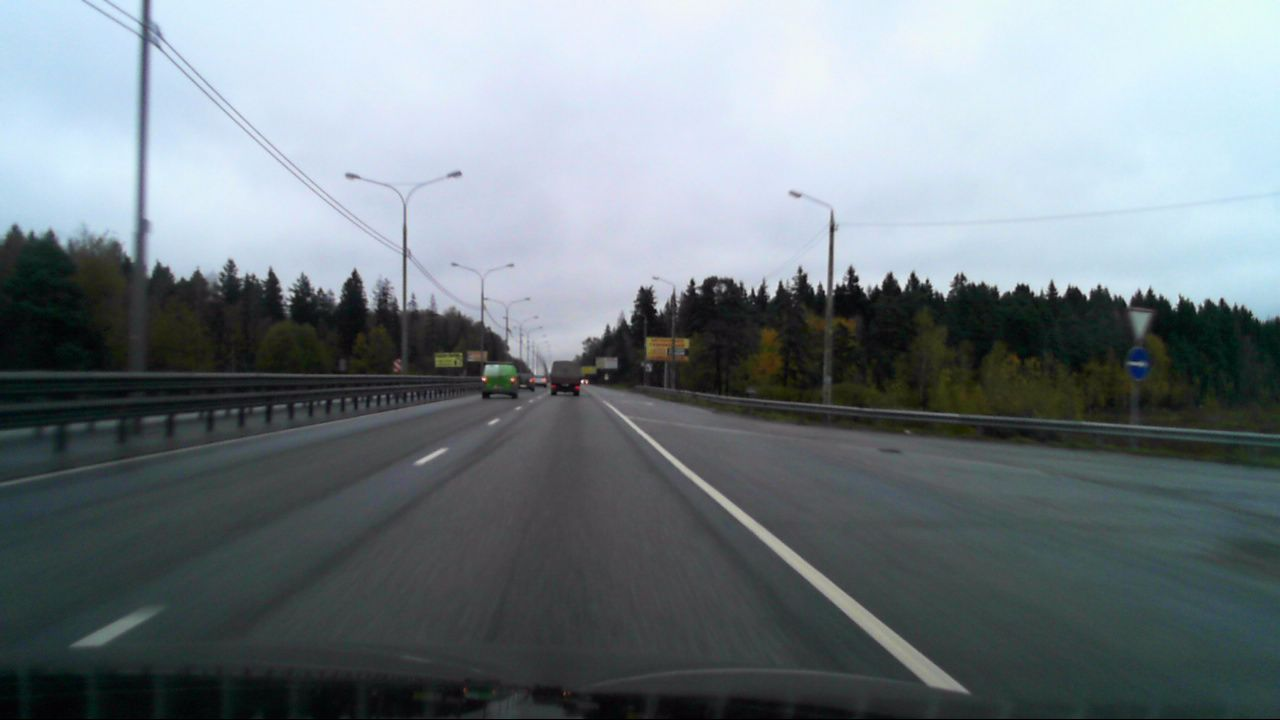Turn Right: (1123, 346, 1152, 381)
